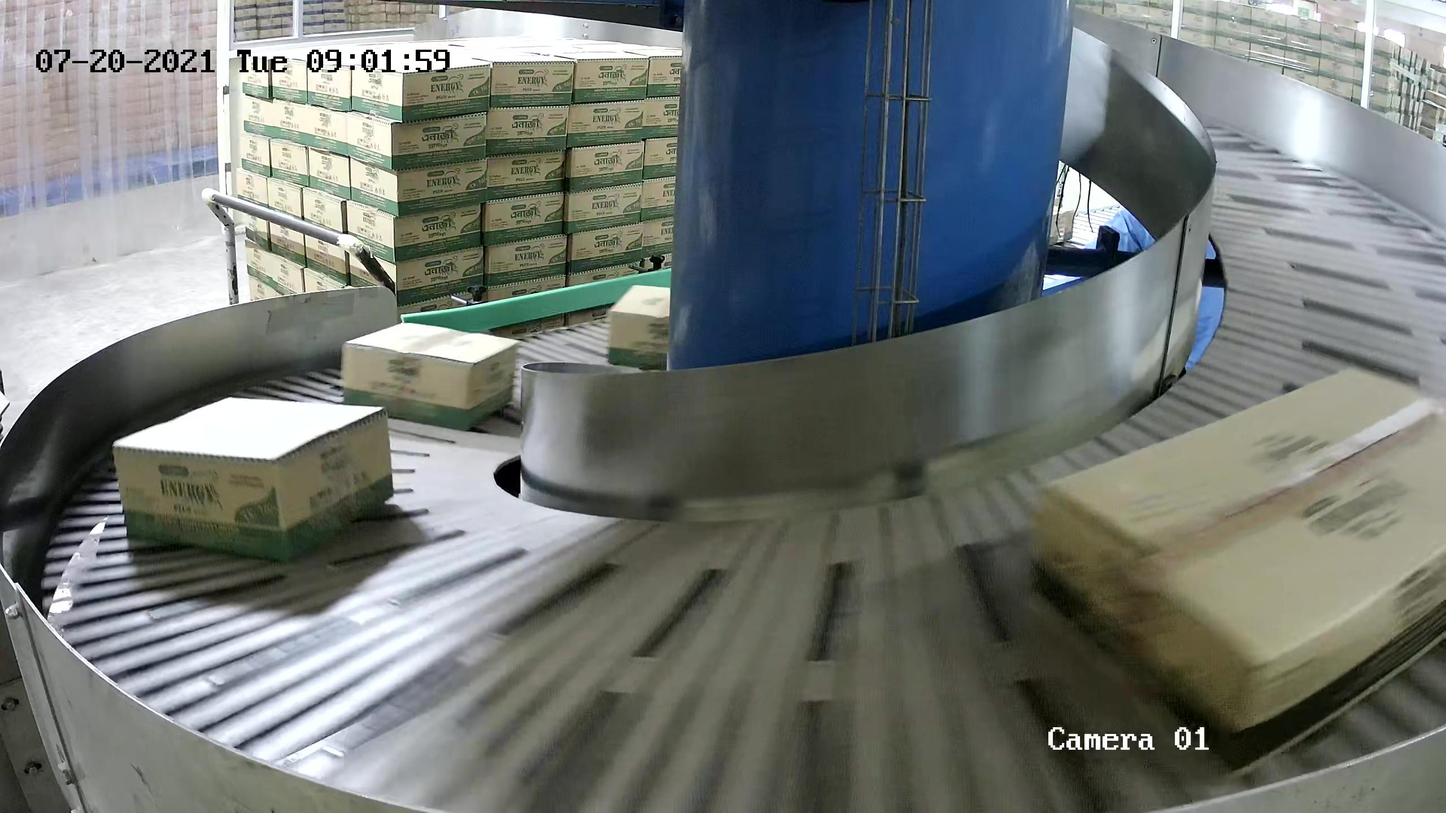Box: (1024, 362, 1446, 781), (110, 394, 397, 566), (340, 321, 521, 431), (606, 284, 671, 371)
